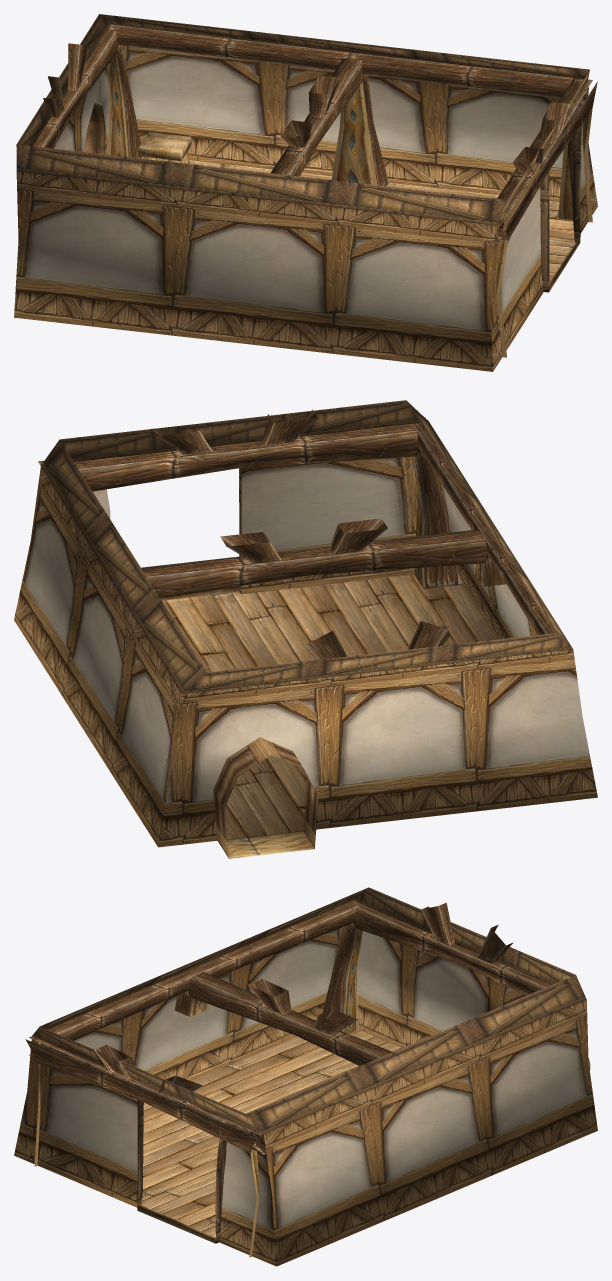
Rendered from stormwind_252.fbx.
The picture shows the model from 3 angles, top to bottom: view 1: azimuth 30°, elevation 25°; view 2: azimuth 150°, elevation 25°; view 3: azimuth 270°, elevation 25°; orthographic projection. The views are drawn at different scales.
Visible parts, largest first — view 1: stormwind_252_48, stormwind_252_53, stormwind_252_56, stormwind_252_51, stormwind_252_54, stormwind_252_49; view 2: stormwind_252_48, stormwind_252_53, stormwind_252_56, stormwind_252_51, stormwind_252_49; view 3: stormwind_252_48, stormwind_252_53, stormwind_252_56, stormwind_252_51.
Part boxes in pixels (x1,y1,x2,y2): stormwind_252_48: (14,27,597,371); stormwind_252_53: (33,24,597,357); stormwind_252_56: (16,14,589,292); stormwind_252_51: (141,156,575,283); stormwind_252_54: (137,132,191,163); stormwind_252_49: (84,103,582,154); stormwind_252_48: (14,423,597,847); stormwind_252_53: (38,409,553,858); stormwind_252_56: (41,400,572,693); stormwind_252_51: (162,574,497,839); stormwind_252_49: (213,737,318,858); stormwind_252_48: (14,919,597,1266); stormwind_252_53: (25,900,581,1257); stormwind_252_56: (32,887,586,1243); stormwind_252_51: (141,1030,401,1237).
Bounding box in the file's own units: 23.52 × 7.09 × 23.52.
